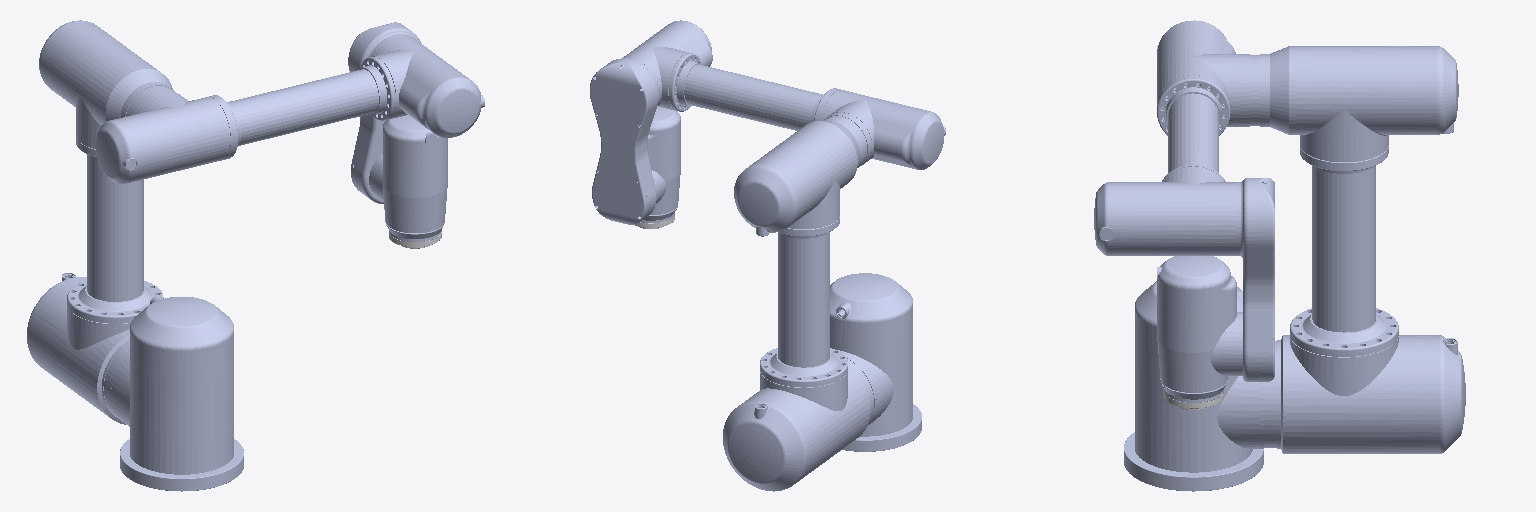
robot.urdf — awtube31210v1:
<?xml version="1.0" encoding="utf-8"?>
<!-- This URDF was automatically created by SolidWorks to URDF Exporter! Originally created by [author] ([email redacted]) 
     Commit Version: 1.5.1-0-g916b5db  Build Version: 1.5.7152.31018
     For more information, please see http://wiki.ros.org/sw_urdf_exporter -->
<robot
  name="awtube31210v1">
  <link
    name="awtube3_baselink">
    <inertial>
      <origin
        xyz="0 0 0.012"
        rpy="0 0 0" />
      <mass
        value="2.35" />
      <inertia
        ixx="0.00787708"
        ixy="0"
        ixz="0"
        iyy="0.00787093"
        iyz="3E-08"
        izz="0.014627" />
    </inertial>
    <visual>
      <origin
        xyz="0 0 0"
        rpy="0 0 0" />
      <geometry>
        <mesh
          filename="package://awtube31210v1/meshes/awtube3_baselink.STL" />
      </geometry>
      <material
        name="">
        <color
          rgba="0.79216 0.81961 0.93333 1" />
      </material>
    </visual>
    <collision>
      <origin
        xyz="0 0 0"
        rpy="0 0 0" />
      <geometry>
        <mesh
          filename="package://awtube31210v1/meshes/controllo/awtube3_baselink.STL" />
      </geometry>
    </collision>
  </link>
  <link
    name="awtube3_link1">
    <inertial>
      <origin
        xyz="0 0.00423 0.09312"
        rpy="0 0 0" />
      <mass
        value="13.53" />
      <inertia
        ixx="0.07436319"
        ixy="1.243E-05"
        ixz="1.542E-05"
        iyy="0.07237734"
        iyz="-0.000349"
        izz="0.05414614" />
    </inertial>
    <visual>
      <origin
        xyz="0 0 0"
        rpy="0 0 0" />
      <geometry>
        <mesh
          filename="package://awtube31210v1/meshes/awtube3_link1.STL" />
      </geometry>
      <material
        name="">
        <color
          rgba="0.79216 0.81961 0.93333 1" />
      </material>
    </visual>
    <collision>
      <origin
        xyz="0 0 0"
        rpy="0 0 0" />
      <geometry>
        <mesh
          filename="package://awtube31210v1/meshes/controllo/awtube3_link1.STL" />
      </geometry>
    </collision>
  </link>
  <joint
    name="awtube3_joint1"
    type="revolute">
    <origin
      xyz="0 0 0.025"
      rpy="0 0 0" />
    <parent
      link="awtube3_baselink" />
    <child
      link="awtube3_link1" />
    <axis
      xyz="0 0 -1" />
    <limit
      lower="-3.14"
      upper="3.14"
      effort="360"
      velocity="1.24" />
    <dynamics
      damping="1"
      friction="0.1" />
  </joint>
  <link
    name="awtube3_link2">
    <inertial>
      <origin
        xyz="-6E-05 -0.18233 0.12468"
        rpy="0 0 0" />
      <mass
        value="25.21" />
      <inertia
        ixx="1.579834"
        ixy="0.0005783"
        ixz="-0.0003135"
        iyy="0.085833"
        iyz="0.63253542"
        izz="1.52496538" />
    </inertial>
    <visual>
      <origin
        xyz="0 0 0"
        rpy="0 0 0" />
      <geometry>
        <mesh
          filename="package://awtube31210v1/meshes/awtube3_link2.STL" />
      </geometry>
      <material
        name="">
        <color
          rgba="0.79216 0.81961 0.93333 1" />
      </material>
    </visual>
    <collision>
      <origin
        xyz="0 0 0"
        rpy="0 0 0" />
      <geometry>
        <mesh
          filename="package://awtube31210v1/meshes/controllo/awtube3_link2.STL" />
      </geometry>
    </collision>
  </link>
  <joint
    name="awtube3_joint2"
    type="revolute">
    <origin
      xyz="0 0.1045 0.0915"
      rpy="1.5708 0 -3.1416" />
    <parent
      link="awtube3_link1" />
    <child
      link="awtube3_link2" />
    <axis
      xyz="0 0 -1" />
    <limit
      lower="-3.14"
      upper="3.1"
      effort="360"
      velocity="1.24" />
    <dynamics
      damping="1"
      friction="0.1" />
  </joint>
  <link
    name="awtube3_link3">
    <inertial>
      <origin
        xyz="-0.00281 7E-05 0.11828"
        rpy="0 0 0" />
      <mass
        value="5.97" />
      <inertia
        ixx="0.11042464"
        ixy="-3.927E-05"
        ixz="-0.00257"
        iyy="0.115612"
        iyz="9.279E-05"
        izz="0.01580659" />
    </inertial>
    <visual>
      <origin
        xyz="0 0 0"
        rpy="0 0 0" />
      <geometry>
        <mesh
          filename="package://awtube31210v1/meshes/awtube3_link3.STL" />
      </geometry>
      <material
        name="">
        <color
          rgba="0.79216 0.81961 0.93333 1" />
      </material>
    </visual>
    <collision>
      <origin
        xyz="0 0 0"
        rpy="0 0 0" />
      <geometry>
        <mesh
          filename="package://awtube31210v1/meshes/controllo/awtube3_link3.STL" />
      </geometry>
    </collision>
  </link>
  <joint
    name="awtube3_joint3"
    type="revolute">
    <origin
      xyz="0 0.5235 0.0545"
      rpy="-3.1416 0 -3.1416" />
    <parent
      link="awtube3_link2" />
    <child
      link="awtube3_link3" />
    <axis
      xyz="0 0 -1" />
    <limit
      lower="-4.71"
      upper="1.57"
      effort="170"
      velocity="2.5" />
    <dynamics
      damping="1"
      friction="0.1" />
  </joint>
  <link
    name="awtube3_link4">
    <inertial>
      <origin
        xyz="-0.0033 0.00011 0.35508"
        rpy="0 0 0" />
      <mass
        value="5.22" />
      <inertia
        ixx="0.073488"
        ixy="-3.818E-05"
        ixz="-0.00080528"
        iyy="0.07863"
        iyz="4.173E-05"
        izz="0.013846" />
    </inertial>
    <visual>
      <origin
        xyz="0 0 0"
        rpy="0 0 0" />
      <geometry>
        <mesh
          filename="package://awtube31210v1/meshes/awtube3_link4.STL" />
      </geometry>
      <material
        name="">
        <color
          rgba="0.79216 0.81961 0.93333 1" />
      </material>
    </visual>
    <collision>
      <origin
        xyz="0 0 0"
        rpy="0 0 0" />
      <geometry>
        <mesh
          filename="package://awtube31210v1/meshes/controllo/awtube3_link4.STL" />
      </geometry>
    </collision>
  </link>
  <joint
    name="awtube3_joint4"
    type="revolute">
    <origin
      xyz="0.066 0 0.1591"
      rpy="0 1.5708 0" />
    <parent
      link="awtube3_link3" />
    <child
      link="awtube3_link4" />
    <axis
      xyz="0 0 -1" />
    <limit
      lower="-3.14"
      upper="3.14"
      effort="80"
      velocity="3.4" />
    <dynamics
      damping="1"
      friction="0.1" />
  </joint>
  <link
    name="awtube3_link5">
    <inertial>
      <origin
        xyz="0.00013 0.191 -0.04671"
        rpy="0 0 0" />
      <mass
        value="4.01" />
      <inertia
        ixx="0.028283"
        ixy="-2.45E-05"
        ixz="-2.965E-05"
        iyy="0.012301"
        iyz="-0.041763"
        izz="0.16942" />
    </inertial>
    <visual>
      <origin
        xyz="0 0 0"
        rpy="0 0 0" />
      <geometry>
        <mesh
          filename="package://awtube31210v1/meshes/awtube3_link5.STL" />
      </geometry>
      <material
        name="">
        <color
          rgba="0.79216 0.81961 0.93333 1" />
      </material>
    </visual>
    <collision>
      <origin
        xyz="0 0 0"
        rpy="0 0 0" />
      <geometry>
        <mesh
          filename="package://awtube31210v1/meshes/controllo/awtube3_link5.STL" />
      </geometry>
    </collision>
  </link>
  <joint
    name="awtube3_joint5"
    type="revolute">
    <origin
      xyz="0.066 0 0.409"
      rpy="0 1.5708 0" />
    <parent
      link="awtube3_link4" />
    <child
      link="awtube3_link5" />
    <axis
      xyz="0 0 -1" />
    <limit
      lower="-1.6"
      upper="4.71"
      effort="80"
      velocity="3.4" />
    <dynamics
      damping="1"
      friction="0.1" />
  </joint>
  <link
    name="awtube3_link6">
    <inertial>
      <origin
        xyz="8E-05 -9E-05 -0.01309"
        rpy="0 0 0" />
      <mass
        value="0.25" />
      <inertia
        ixx="0.00015313"
        ixy="1.12E-06"
        ixz="-1.6E-07"
        iyy="0.00015133"
        iyz="-7E-08"
        izz="0.00028746" />
    </inertial>
    <visual>
      <origin
        xyz="0 0 0"
        rpy="0 0 0" />
      <geometry>
        <mesh
          filename="package://awtube31210v1/meshes/awtube3_link6.STL" />
      </geometry>
      <material
        name="">
        <color
          rgba="0.8902 0.8902 0.91373 1" />
      </material>
    </visual>
    <collision>
      <origin
        xyz="0 0 0"
        rpy="0 0 0" />
      <geometry>
        <mesh
          filename="package://awtube31210v1/meshes/controllo/awtube3_link6.STL" />
      </geometry>
    </collision>
  </link>
  <joint
    name="awtube3_joint6"
    type="revolute">
    <origin
      xyz="0 -0.315 -0.0655"
      rpy="-1.5708 0 -3.1416" />
    <parent
      link="awtube3_link5" />
    <child
      link="awtube3_link6" />
    <axis
      xyz="0 0 -1" />
    <limit
      lower="-3.14"
      upper="3.14"
      effort="37"
      velocity="6.36" />
    <dynamics
      damping="1"
      friction="0.1" />
  </joint>
</robot>

--- What the picture shows (computed from the rendered views, not written in the file) ---
Views: 3 orthographic renders of the robot side by side, from view 1: azimuth 30°, elevation 25°; view 2: azimuth 150°, elevation 25°; view 3: azimuth 270°, elevation 25°.
Model awtube31210v1 with 7 links and 6 joints (6 revolute), rooted at awtube3_baselink, posed every joint at zero.
Visible links, largest first — view 1: awtube3_link2, awtube3_link1, awtube3_link4, awtube3_link3, awtube3_link5, awtube3_baselink; view 2: awtube3_link2, awtube3_link5, awtube3_link4, awtube3_link1, awtube3_link3, awtube3_baselink; view 3: awtube3_link2, awtube3_link5, awtube3_link4, awtube3_link1, awtube3_link3, awtube3_baselink.
Boxes of the visible links, x1=… form: awtube3_link2: x1=27, y1=20, x2=163, y2=424; awtube3_link1: x1=111, y1=296, x2=233, y2=474; awtube3_link4: x1=209, y1=36, x2=484, y2=159; awtube3_link3: x1=96, y1=67, x2=230, y2=184; awtube3_link5: x1=348, y1=22, x2=447, y2=241; awtube3_baselink: x1=120, y1=439, x2=243, y2=491; awtube3_link2: x1=723, y1=123, x2=876, y2=491; awtube3_link5: x1=590, y1=58, x2=680, y2=224; awtube3_link4: x1=623, y1=20, x2=840, y2=130; awtube3_link1: x1=830, y1=273, x2=912, y2=436; awtube3_link3: x1=805, y1=90, x2=945, y2=181; awtube3_baselink: x1=842, y1=404, x2=921, y2=451; awtube3_link2: x1=1260, y1=46, x2=1465, y2=453; awtube3_link5: x1=1157, y1=178, x2=1274, y2=402; awtube3_link4: x1=1094, y1=75, x2=1235, y2=255; awtube3_link1: x1=1135, y1=281, x2=1259, y2=472; awtube3_link3: x1=1157, y1=20, x2=1295, y2=134; awtube3_baselink: x1=1124, y1=432, x2=1263, y2=491.
Bounding box of the posed robot: 0.6955 × 0.5804 × 0.7095 m (x, y, z).
Meshes: 7 distinct files referenced, 7 mesh visuals loaded (7 binary STL).